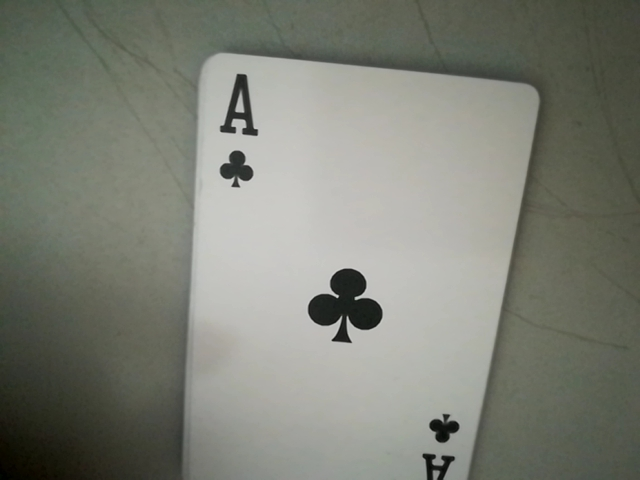mh a: (198, 57, 268, 193), (417, 409, 469, 480)
